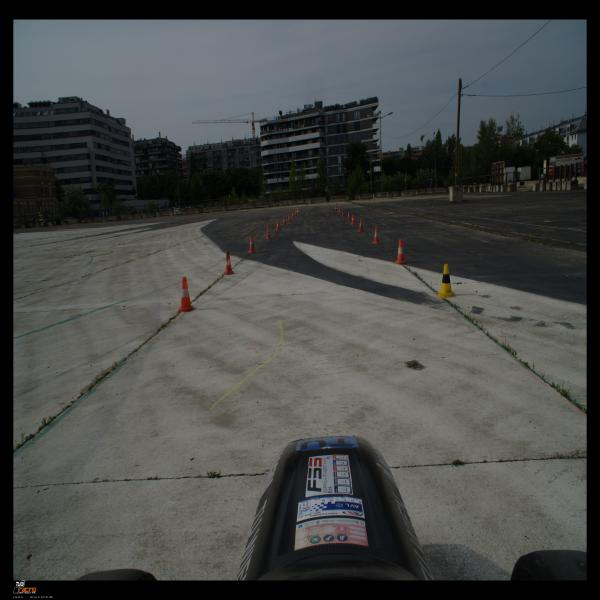large_orange_cone: (296, 206, 300, 214), (335, 203, 338, 211)
orange_cone: (176, 276, 196, 312), (394, 239, 408, 264), (222, 250, 236, 274), (247, 236, 257, 253), (372, 226, 380, 244), (264, 226, 272, 240), (357, 219, 365, 232), (351, 214, 356, 225), (276, 220, 280, 231), (282, 216, 286, 226), (347, 212, 351, 220), (288, 214, 291, 221), (338, 208, 341, 214), (342, 210, 344, 217), (292, 211, 294, 218), (295, 210, 297, 216), (337, 207, 339, 212)
yellow_cone: (437, 264, 456, 298)
